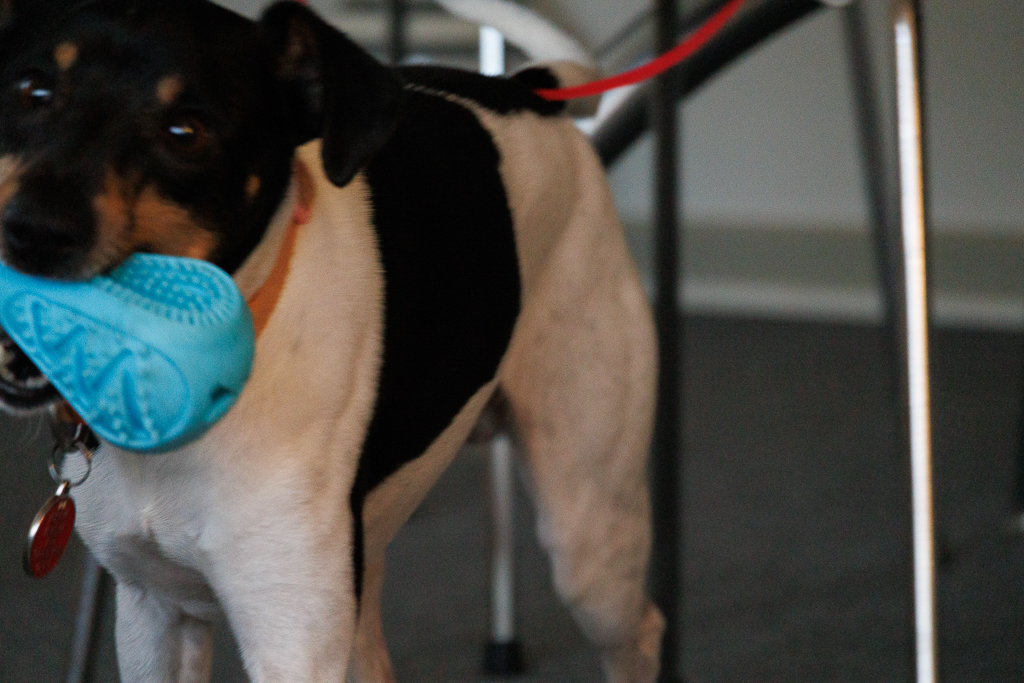Dog: (0, 0, 668, 683)
